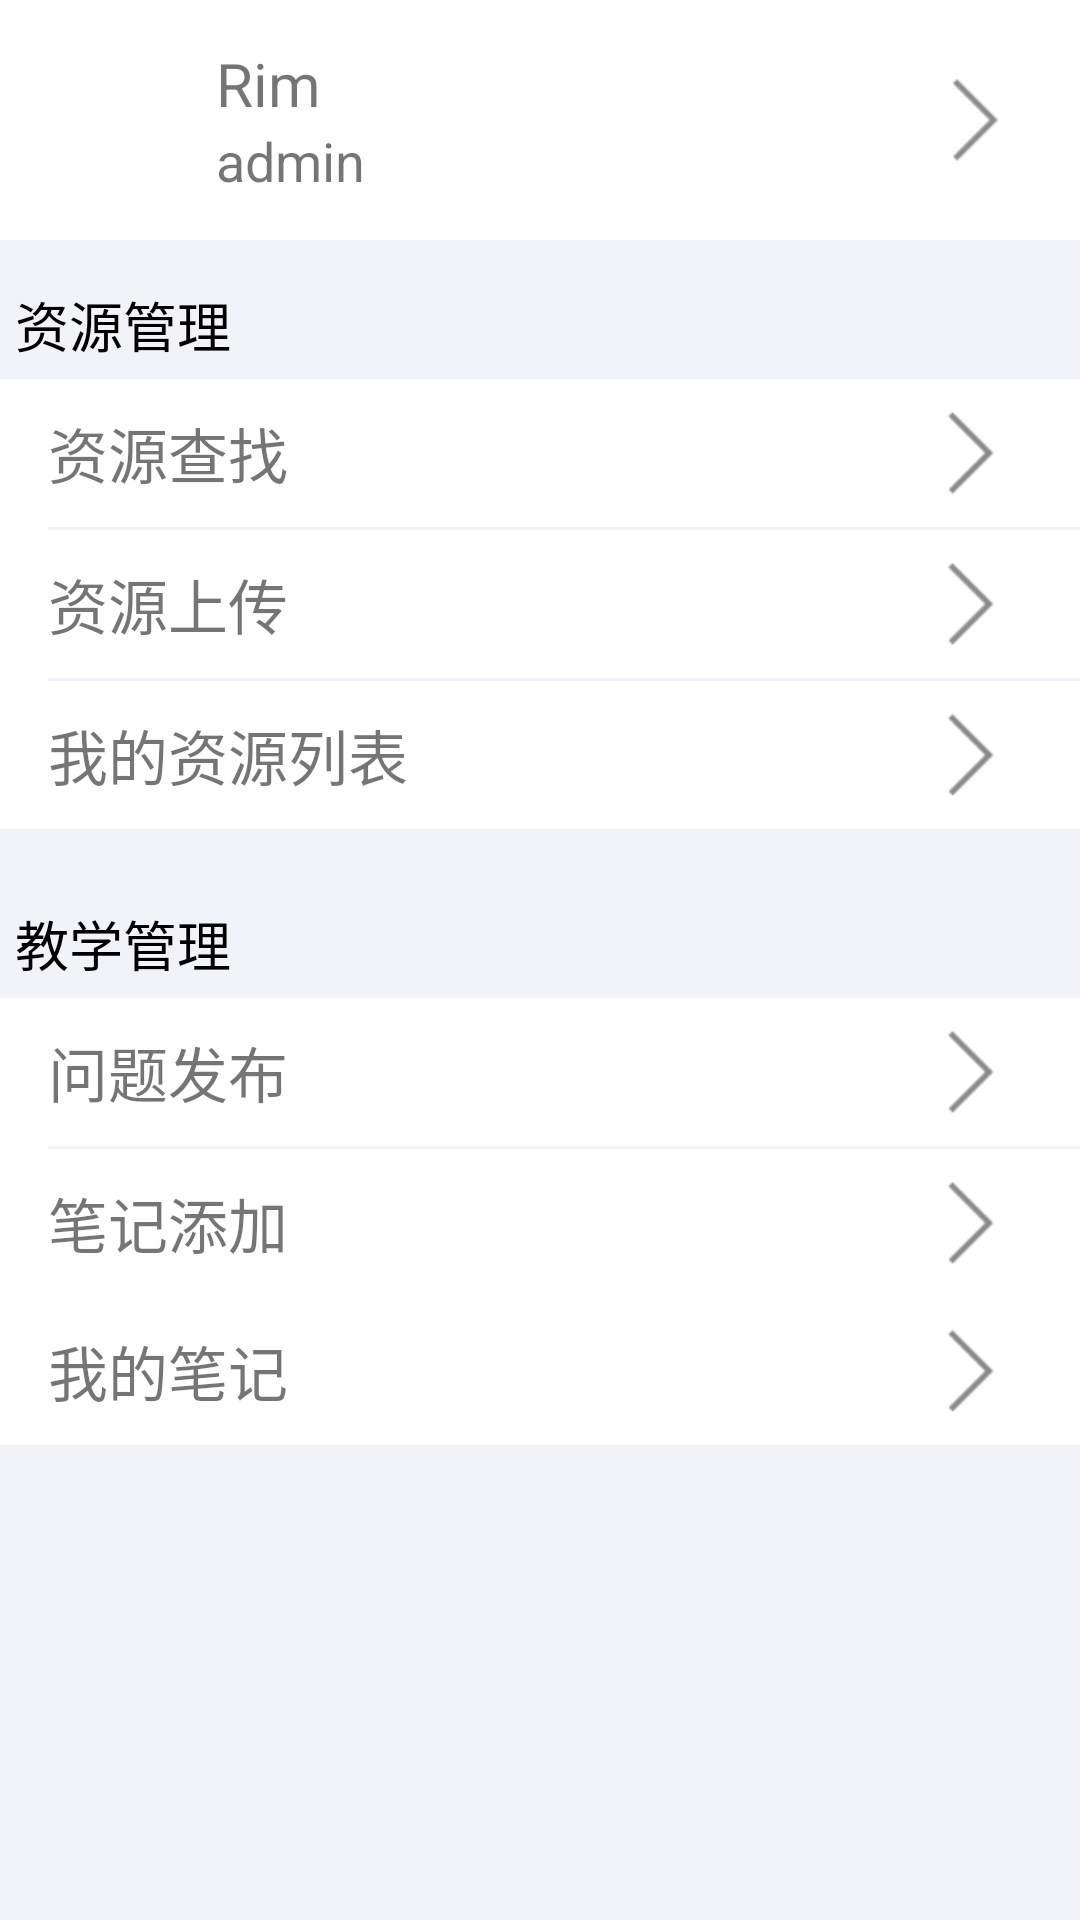

Icons on this 1080 × 1920 Android screen, each with the point to tap as (x,y):
right: (975,120), (971,453), (971,604), (971,755), (971,1072), (971,1223), (971,1371)
